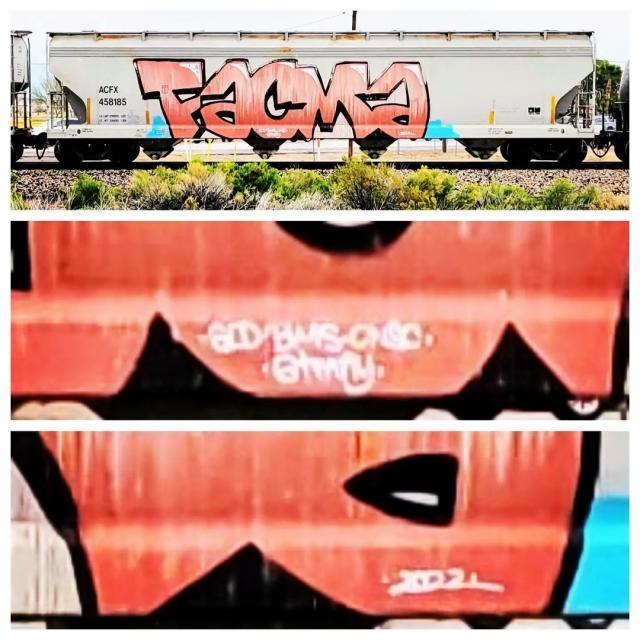nonspitting: (132, 53, 432, 146), (190, 319, 437, 394), (382, 567, 505, 596)
